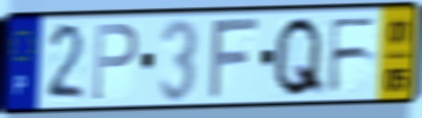2: (43, 20, 90, 106)
3: (158, 13, 203, 107)
F: (205, 15, 262, 103), (326, 14, 380, 97)
P: (90, 21, 140, 104)
Q: (270, 13, 326, 100)
